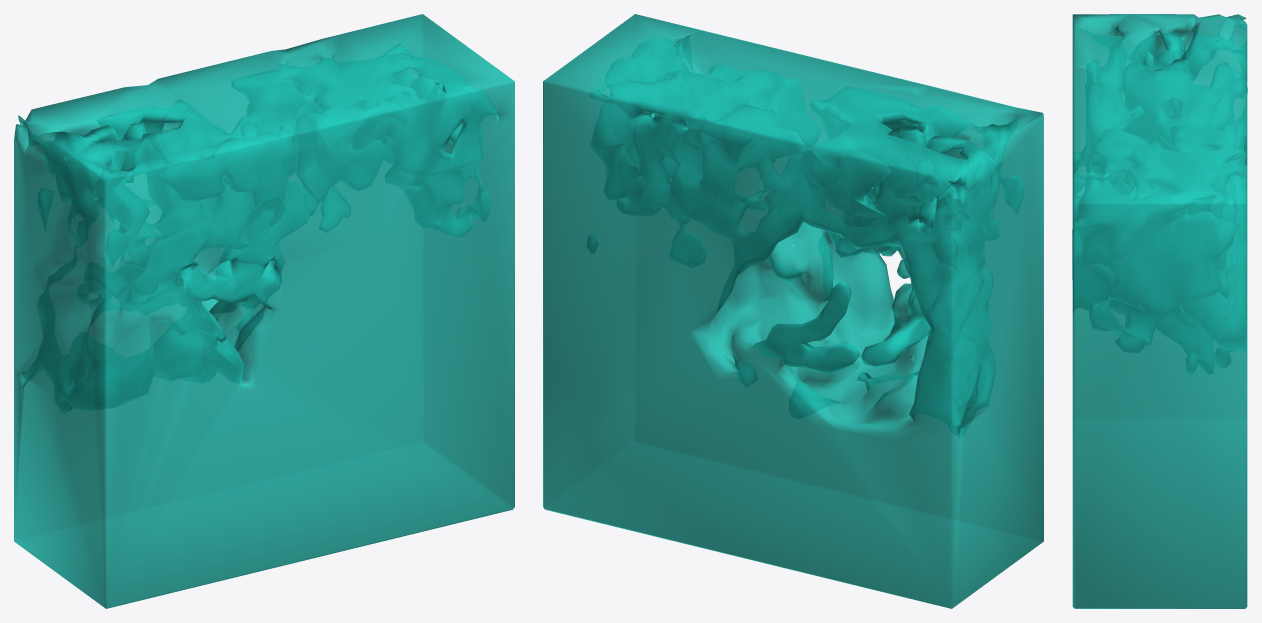
3 renders of one model, left to right at view 1: azimuth 30°, elevation 25°; view 2: azimuth 150°, elevation 25°; view 3: azimuth 270°, elevation 25°, orthographic. The views are drawn at different scales.
Visible parts, largest first — view 1: Liquid_Domain; view 2: Liquid_Domain; view 3: Liquid_Domain.
Boxes of the visible parts, x1,y1,x2,y2 form: Liquid_Domain: (14, 14, 514, 608); Liquid_Domain: (543, 14, 1043, 608); Liquid_Domain: (1072, 14, 1247, 608).
Bounding box in the file's own units: 884 × 885 × 345.
